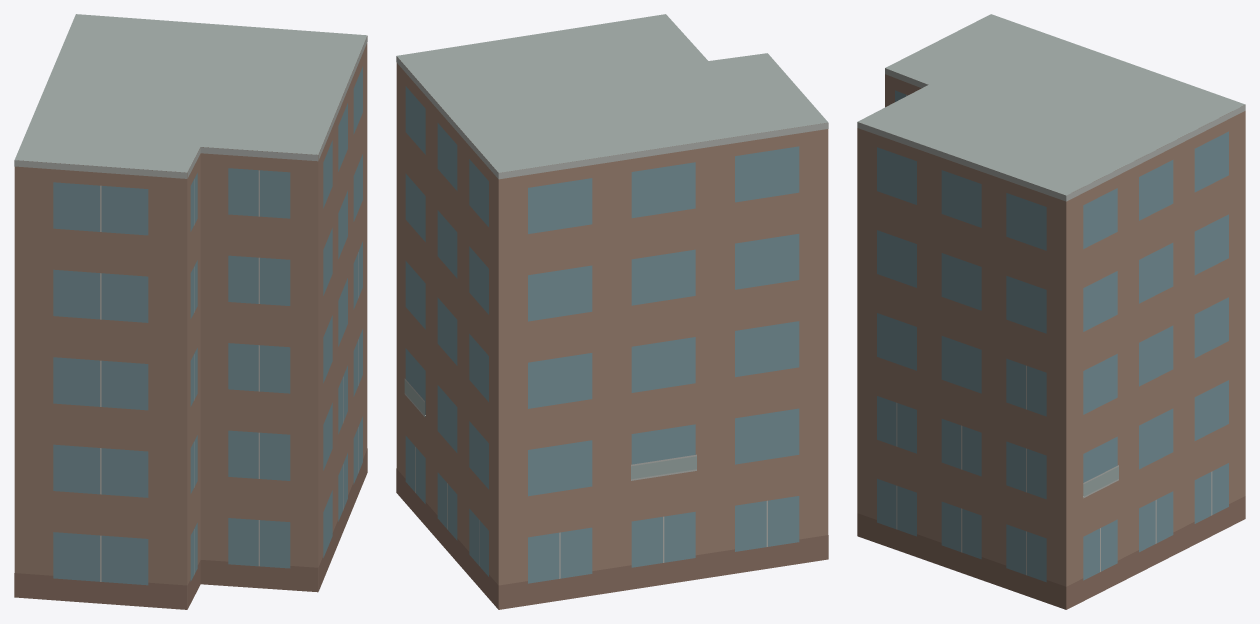
The model's file is survey-upis-32894141.glb.
3 views of the same model, side by side, from view 1: azimuth 30°, elevation 25°; view 2: azimuth 150°, elevation 25°; view 3: azimuth 270°, elevation 25° (orthographic). The views are drawn at different scales.
Parts seen in each view (by area): view 1: survey-upis-32894141.tmp; view 2: survey-upis-32894141.tmp; view 3: survey-upis-32894141.tmp.
Boxes of the visible parts, left/top/right/bottom form: survey-upis-32894141.tmp: left=14, top=14, right=367, bottom=609; survey-upis-32894141.tmp: left=396, top=14, right=828, bottom=609; survey-upis-32894141.tmp: left=857, top=14, right=1245, bottom=609.
Size of the model in its own units: 15.7 by 16.7 by 14.19.
